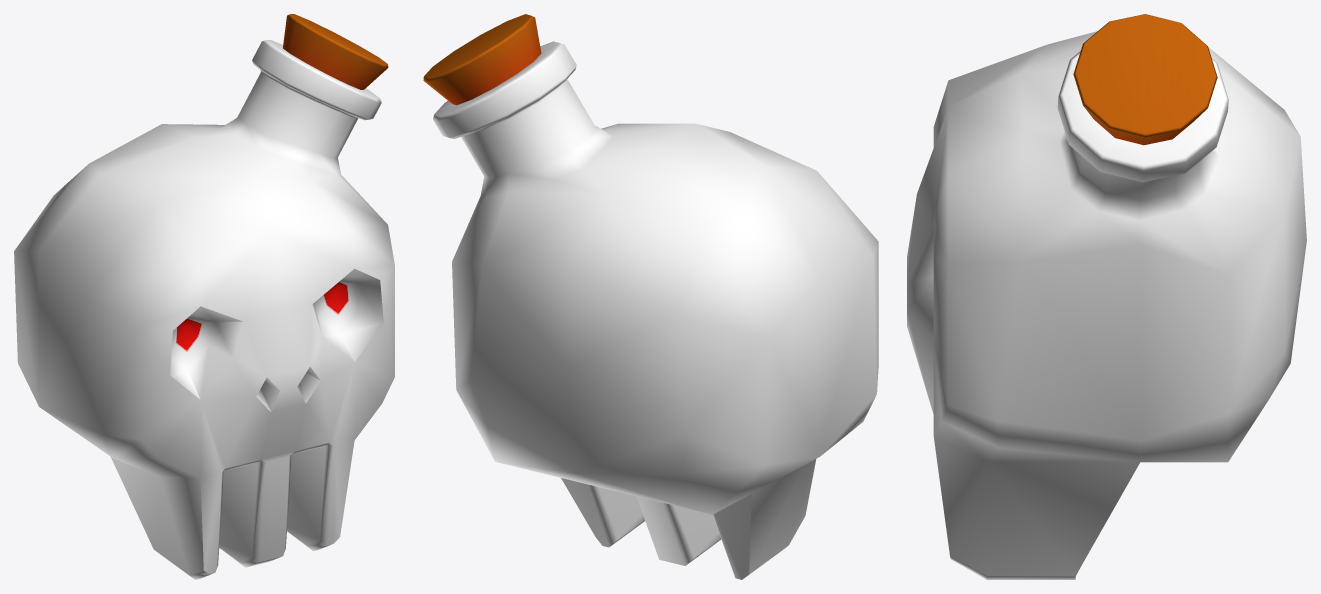
File: Bottle_Skeleton.fbx
3 renders of one model, left to right at view 1: azimuth 30°, elevation 25°; view 2: azimuth 150°, elevation 25°; view 3: azimuth 270°, elevation 25°, orthographic. The views are drawn at different scales.
Visible parts, largest first — view 1: SkullBottle, SkullBottle_Cork; view 2: SkullBottle, SkullBottle_Cork; view 3: SkullBottle, SkullBottle_Cork.
Part boxes in pixels (bbox=[...]): SkullBottle: bbox=[14, 40, 394, 579]; SkullBottle_Cork: bbox=[283, 14, 388, 89]; SkullBottle: bbox=[433, 41, 878, 579]; SkullBottle_Cork: bbox=[423, 14, 541, 105]; SkullBottle: bbox=[907, 31, 1306, 579]; SkullBottle_Cork: bbox=[1073, 14, 1217, 145].
Bounding box in the file's own units: 33.39 × 44.08 × 26.97.
